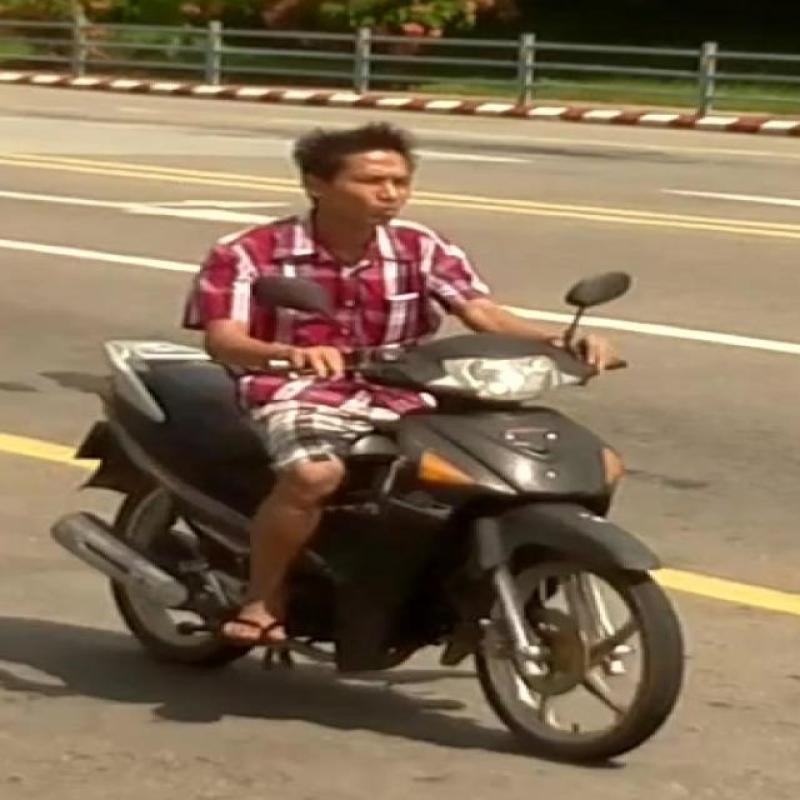nohelmet: (287, 118, 482, 248)
